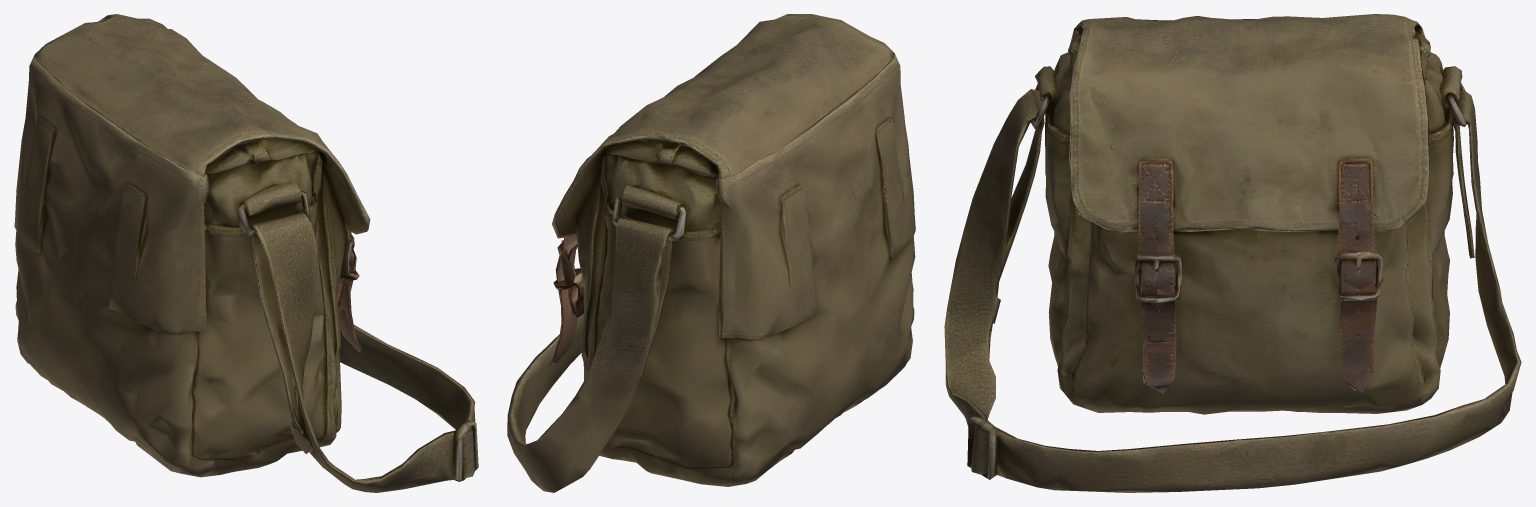
Rendered from field_bag.224b6c9dc3.glb.
3 renders of one model, left to right at view 1: azimuth 30°, elevation 25°; view 2: azimuth 150°, elevation 25°; view 3: azimuth 270°, elevation 25°, orthographic. The views are drawn at different scales.
Parts seen in each view (by area): view 1: field_bag; view 2: field_bag; view 3: field_bag.
Part boxes in pixels (x1=…): field_bag: x1=14, y1=14, x2=478, y2=492; field_bag: x1=507, y1=14, x2=915, y2=492; field_bag: x1=944, y1=14, x2=1521, y2=492.
Bounding box in the file's own units: 0.2498 × 0.2662 × 0.38.
Materials: 1 (1 with a texture image).
